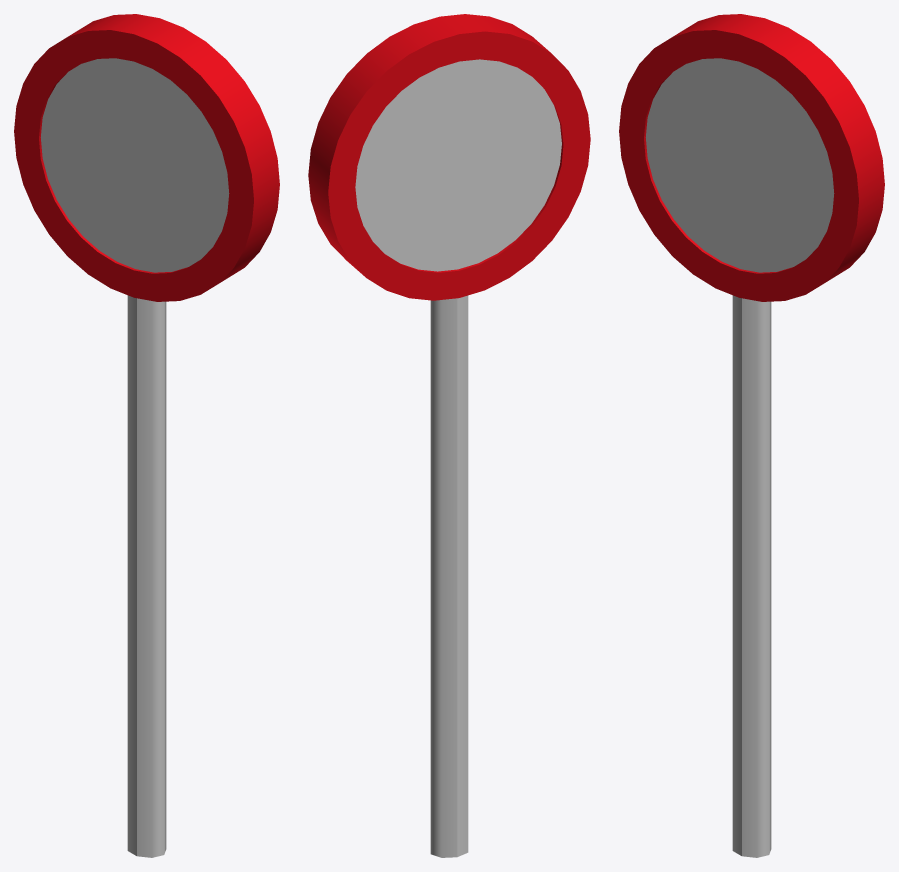
The model's file is SM_senal.fbx.
3 views of the same model, side by side, from view 1: azimuth 90°, elevation 25°; view 2: azimuth 150°, elevation 25°; view 3: azimuth 270°, elevation 25° (orthographic).
Visible parts, largest first — view 1: SM_señal; view 2: SM_señal; view 3: SM_señal.
Boxes of the visible parts, x1,y1,x2,y2 form: SM_señal: [14, 14, 279, 857]; SM_señal: [308, 14, 590, 857]; SM_señal: [619, 14, 884, 857].
Size of the model in its own units: 93.06 by 419 by 123.
